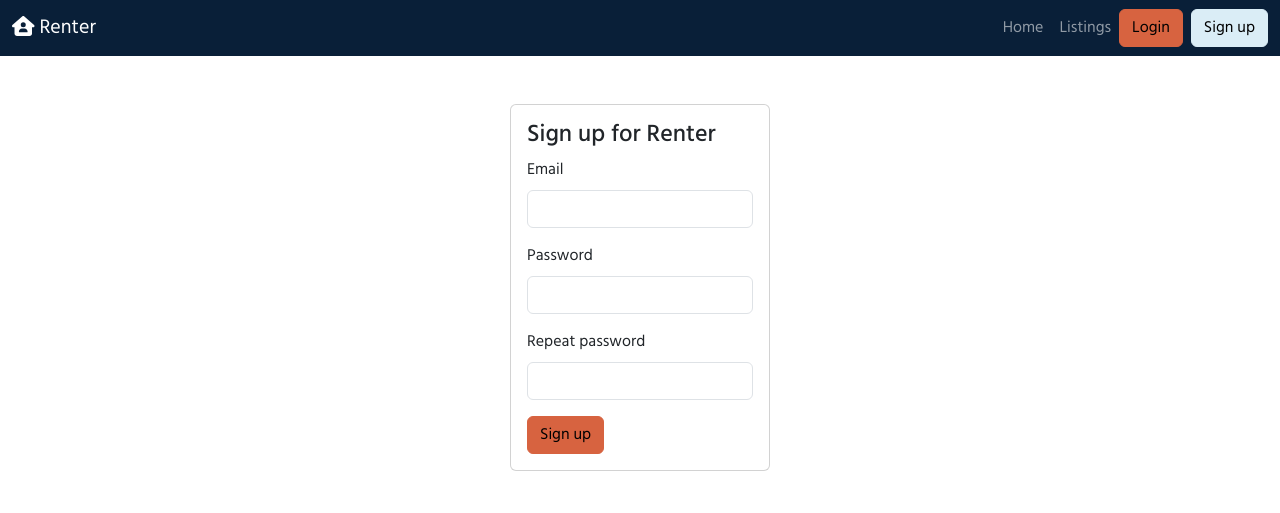
Scenario: password errors are shown if a password is invalid
Type "test@example.com" into the field named "email" at (640, 209), box [527, 190, 753, 228]
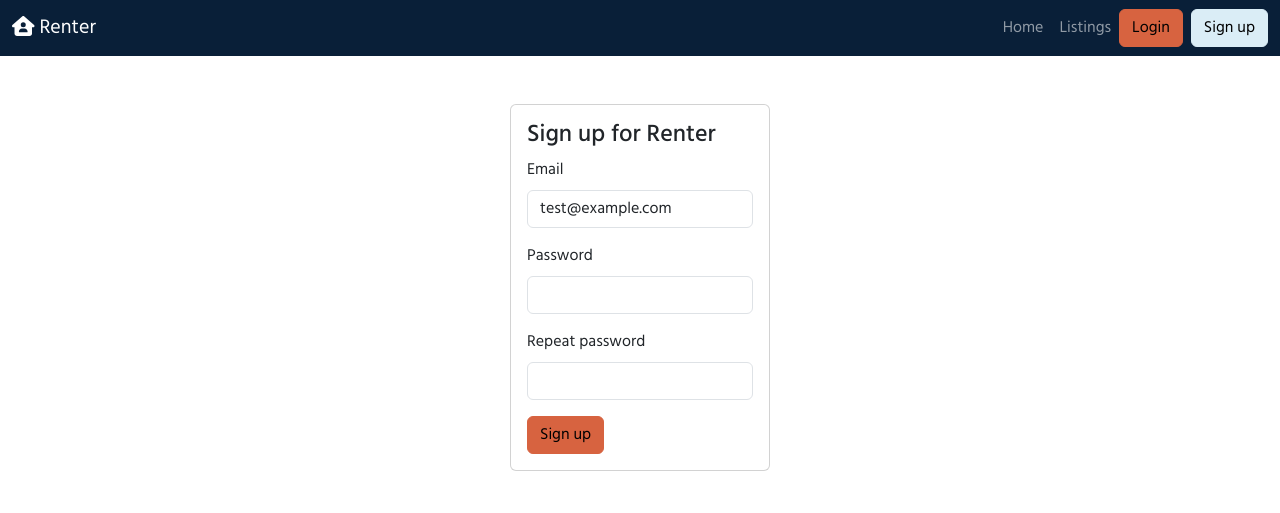
Type "test" into the password field named "password" at (640, 295), box [527, 276, 753, 314]
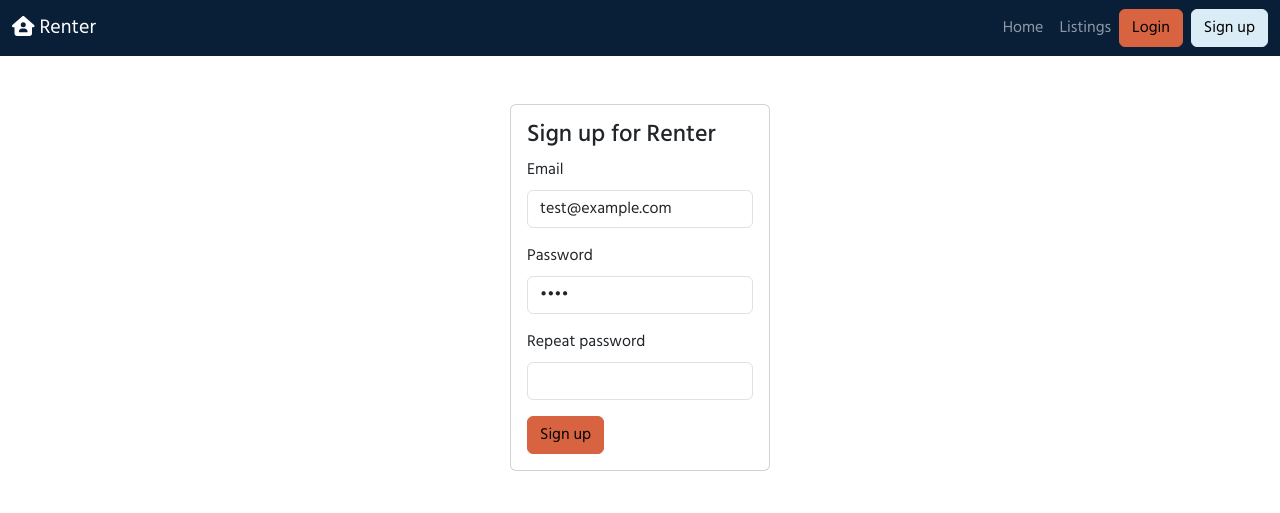
Type "test" into the password field named "repeatPassword" at (640, 381), box [527, 362, 753, 400]
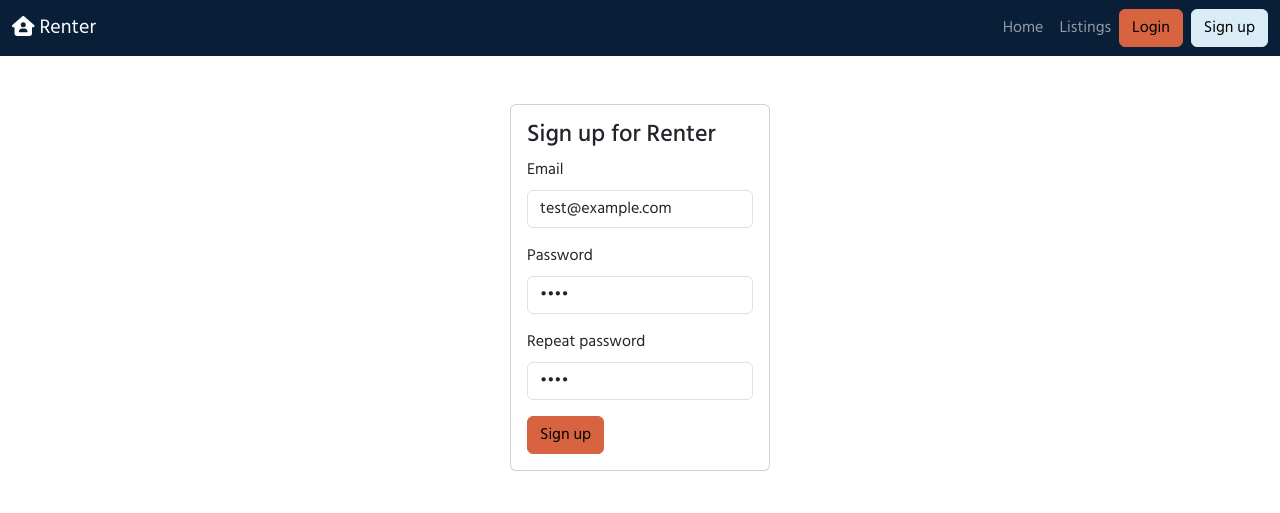
Submit the form, box [511, 105, 769, 470]
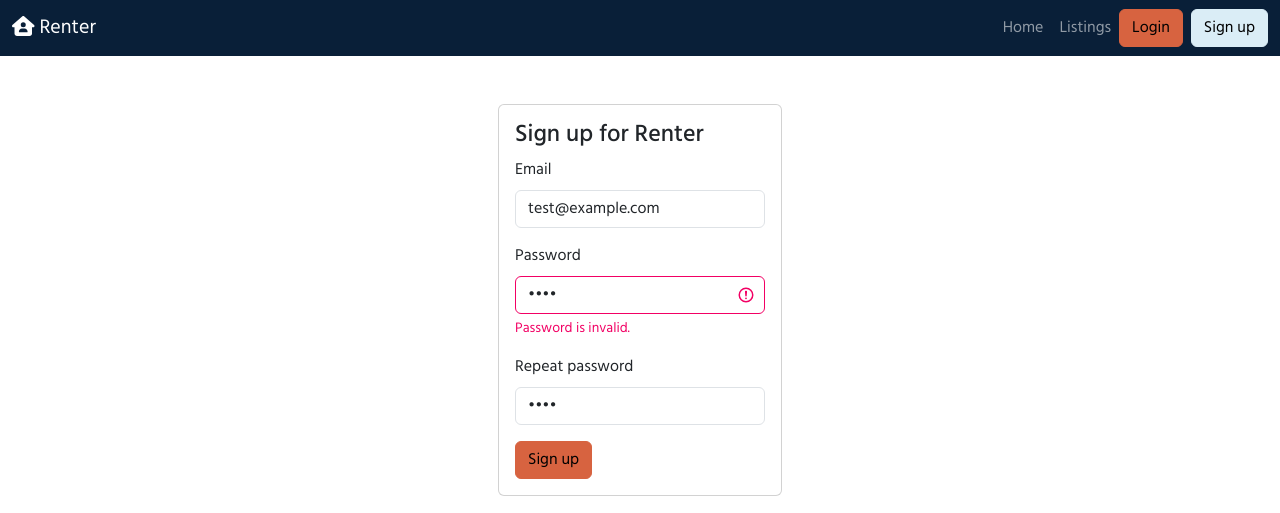
Result: the element showing "Password is invalid." is shown at [515, 317, 630, 340]
